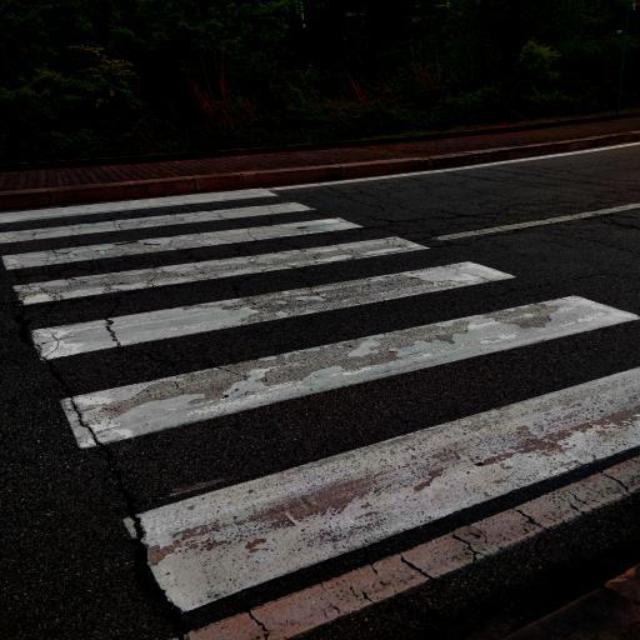sidewalk: (0, 181, 640, 628)
